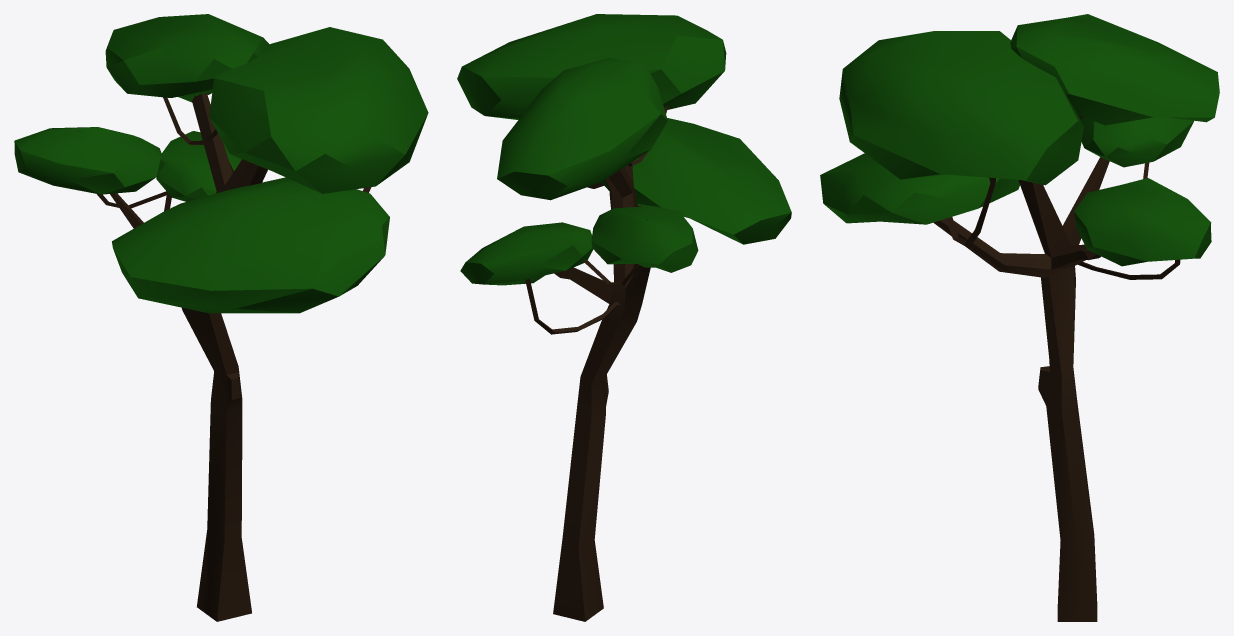
File: tree_jungle.glb
3 renders of one model, left to right at view 1: azimuth 30°, elevation 25°; view 2: azimuth 150°, elevation 25°; view 3: azimuth 270°, elevation 25°, orthographic. The views are drawn at different scales.
Parts seen in each view (by area): view 1: tree_jungle; view 2: tree_jungle; view 3: tree_jungle.
Part boxes in pixels (x1=…): tree_jungle: x1=14, y1=14, x2=428, y2=621; tree_jungle: x1=457, y1=14, x2=791, y2=621; tree_jungle: x1=820, y1=14, x2=1219, y2=621.
Bounding box in the file's own units: 5.17 × 9.03 × 5.69.
Materials: 1 (1 with a texture image).
